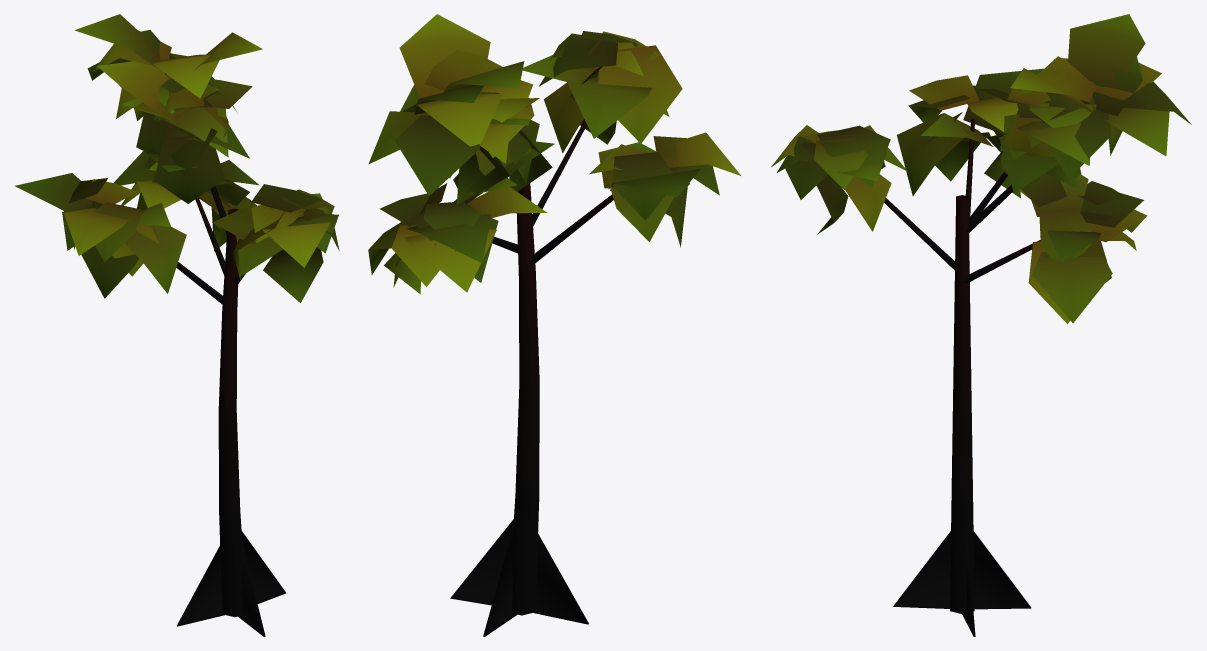
File: broadleaf_a.glb
3 views of the same model, side by side, from view 1: azimuth 30°, elevation 25°; view 2: azimuth 150°, elevation 25°; view 3: azimuth 270°, elevation 25° (orthographic). The views are drawn at different scales.
Parts seen in each view (by area): view 1: broadleaf_a; view 2: broadleaf_a; view 3: broadleaf_a.
Part boxes in pixels (x1,y1,x2,y2): broadleaf_a: (15, 14, 339, 636); broadleaf_a: (368, 14, 740, 636); broadleaf_a: (771, 14, 1191, 636).
Size of the model in its own units: 4.28 by 8.57 by 5.91.
Materials: 1 (1 with a texture image).
